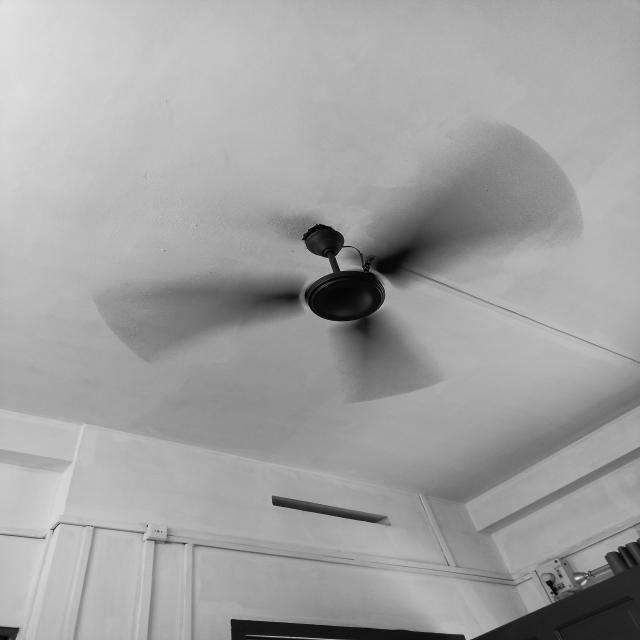fan: (90, 115, 638, 406)
light: (300, 223, 385, 322)
